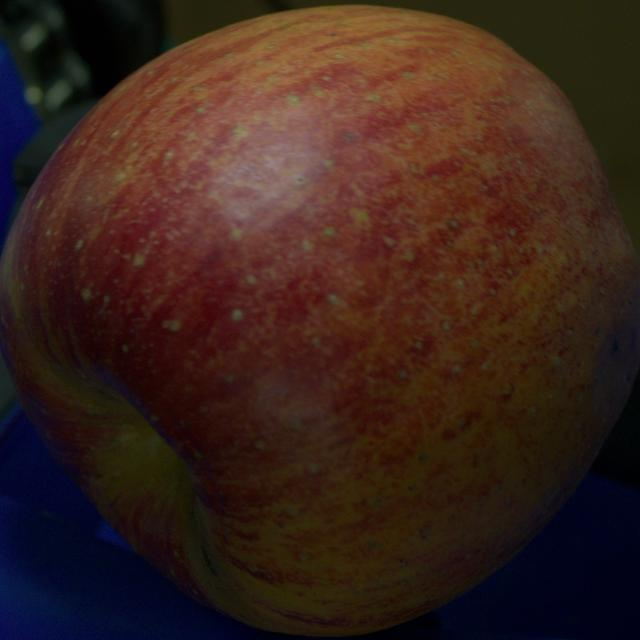apple: (0, 6, 639, 636)
rotten: (592, 284, 639, 421)
scratch: (202, 548, 219, 578)
